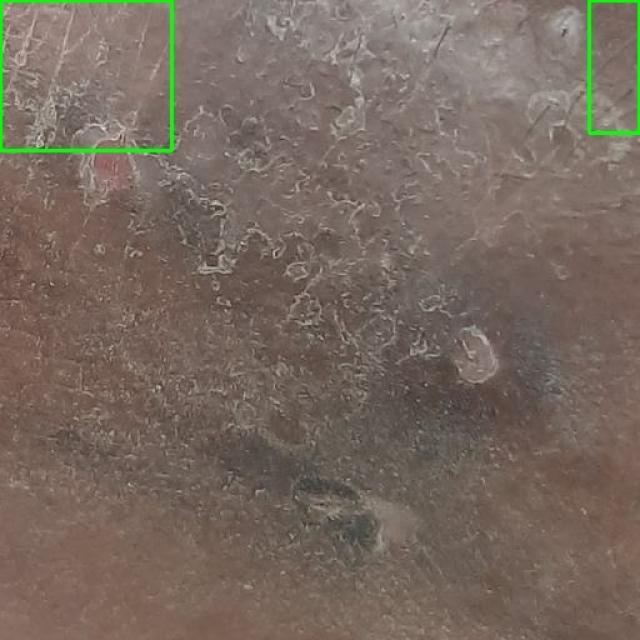Eczema: (0, 0, 171, 150), (589, 0, 639, 134)
